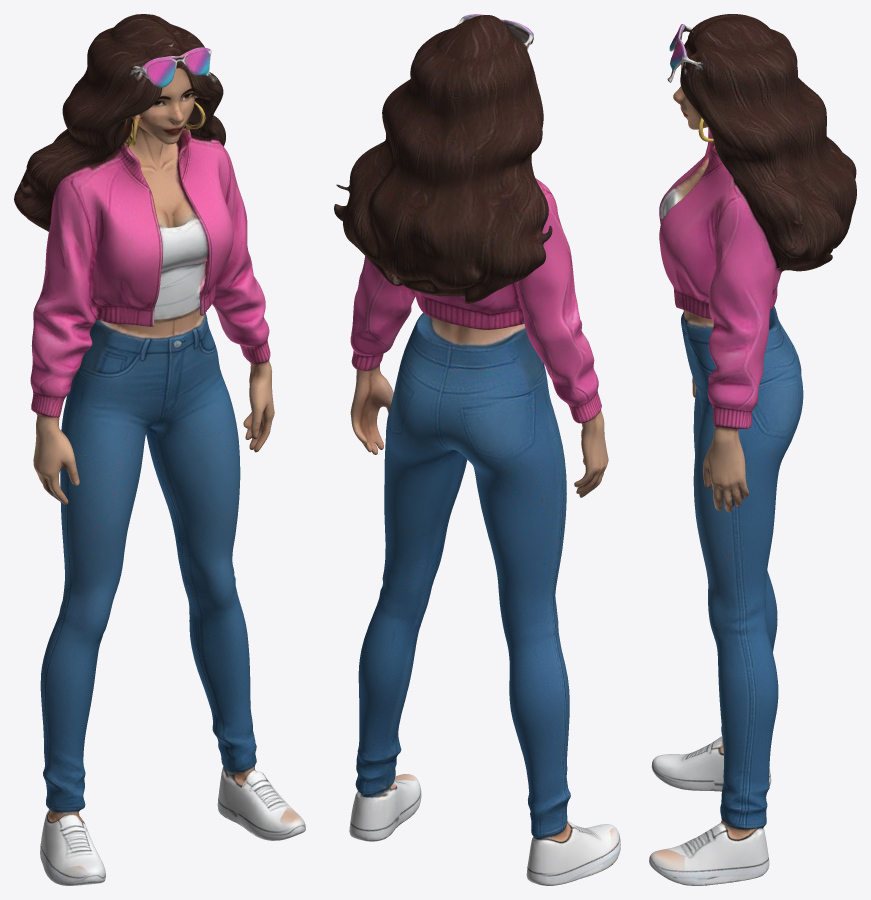
The model's file is roxy.glb.
3 renders of one model, left to right at view 1: azimuth 30°, elevation 25°; view 2: azimuth 150°, elevation 25°; view 3: azimuth 270°, elevation 25°, orthographic. The views are drawn at different scales.
Size of the model in its own units: 0.6009 by 1.9 by 0.4431.
Materials: 1 (1 with a texture image).
